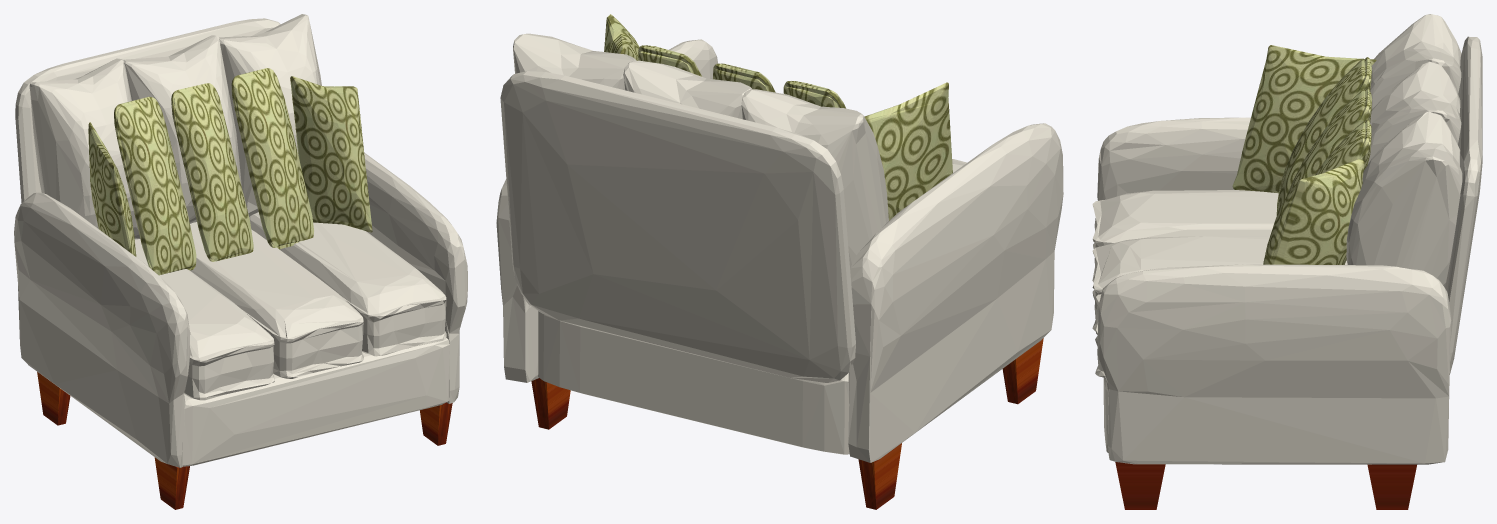
File: sh-contrib-large-couch.glb
The picture shows the model from 3 angles, left to right: view 1: azimuth 30°, elevation 25°; view 2: azimuth 150°, elevation 25°; view 3: azimuth 270°, elevation 25°; orthographic projection. The views are drawn at different scales.
Parts seen in each view (by area): view 1: PolyMesh_2, PolyMesh_1_2, PolyMesh_5; view 2: PolyMesh_2, PolyMesh_1_2, PolyMesh_5; view 3: PolyMesh_2, PolyMesh_1_2, PolyMesh_5.
Part boxes in pixels (x1,y1,x2,y2): PolyMesh_2: [14, 14, 467, 467]; PolyMesh_1_2: [88, 68, 372, 275]; PolyMesh_5: [37, 372, 452, 509]; PolyMesh_2: [496, 33, 1063, 462]; PolyMesh_1_2: [604, 14, 952, 220]; PolyMesh_5: [531, 338, 1043, 509]; PolyMesh_2: [1092, 14, 1482, 464]; PolyMesh_1_2: [1232, 45, 1376, 264]; PolyMesh_5: [1115, 462, 1416, 509].
Size of the model in its own units: 0.9991 by 1 by 0.9987.
3 materials, 2 textured.
